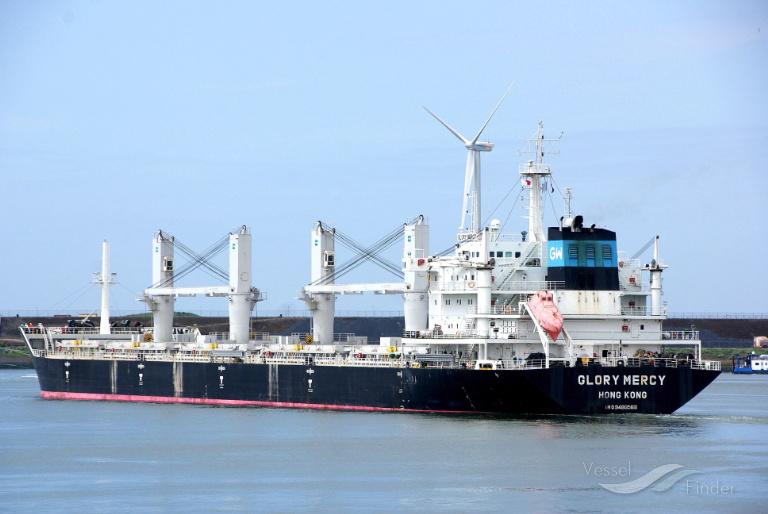OCR: (574, 371, 671, 412)
